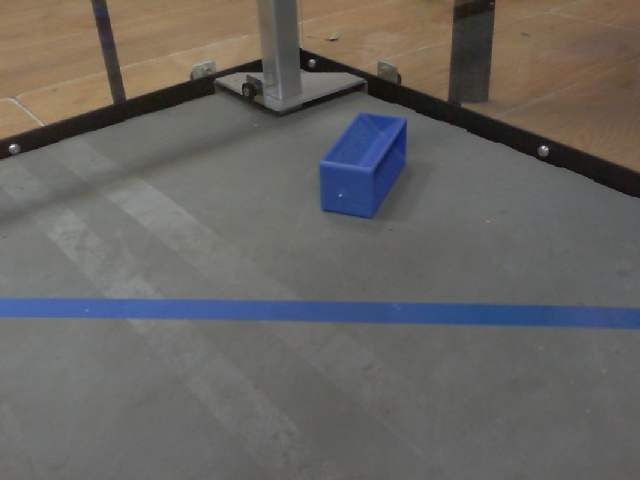BlueSample: (316, 109, 409, 223)
